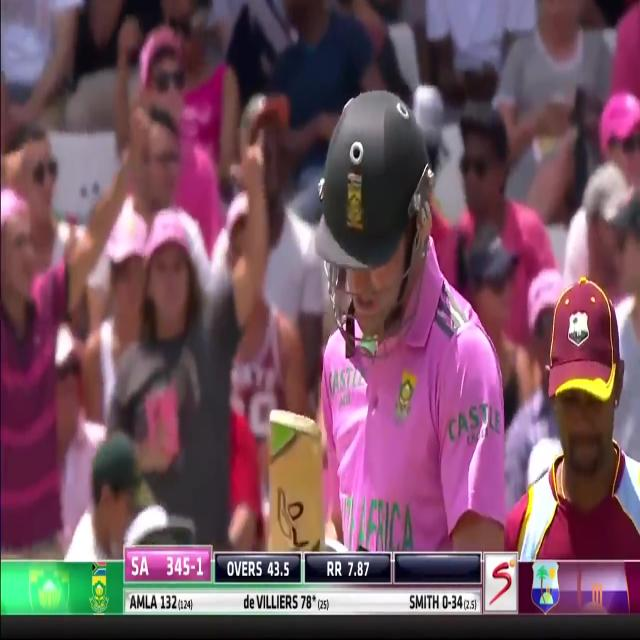Ball: (243, 74, 529, 556)
Fielder: (504, 267, 640, 560)
